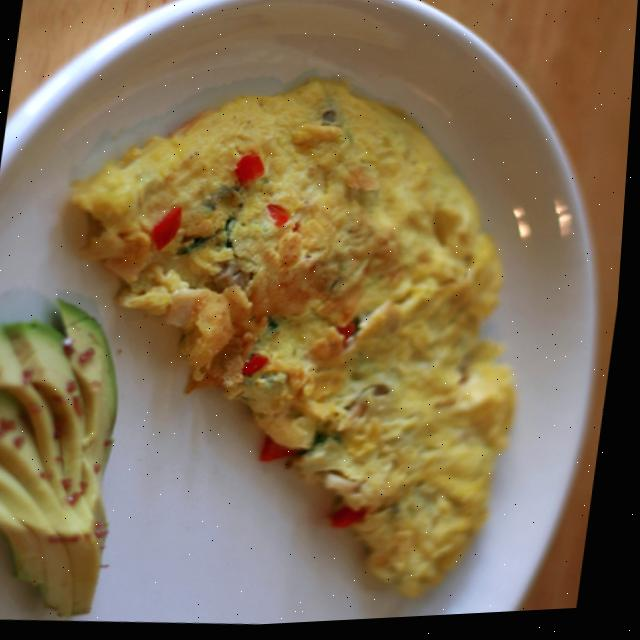鸡蛋料理: (28, 39, 579, 637)
